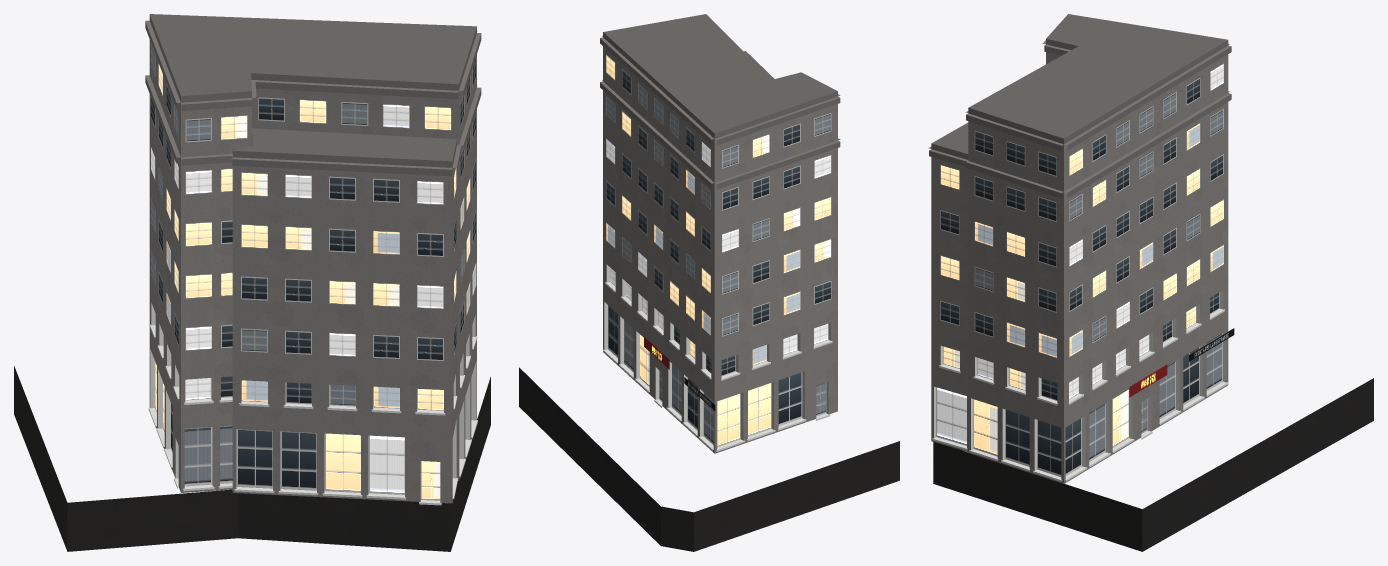
The model's file is langB_hungryduck.glb.
The picture shows the model from 3 angles, left to right: view 1: azimuth 30°, elevation 25°; view 2: azimuth 150°, elevation 25°; view 3: azimuth 270°, elevation 25°; orthographic projection. The views are drawn at different scales.
Visible parts, largest first — view 1: langB_hungryduck; view 2: langB_hungryduck; view 3: langB_hungryduck.
Boxes of the visible parts, x1,y1,x2,y2 form: langB_hungryduck: (14, 14, 490, 551); langB_hungryduck: (519, 14, 899, 551); langB_hungryduck: (928, 14, 1373, 551).
Size of the model in its own units: 28.59 by 27.22 by 28.32.
Materials: 3 (3 with a texture image).
